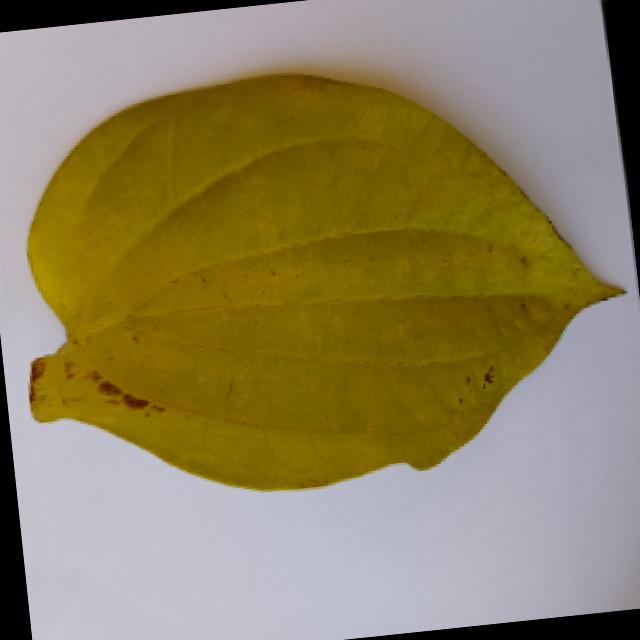slow-decline: (0, 8, 629, 506)
